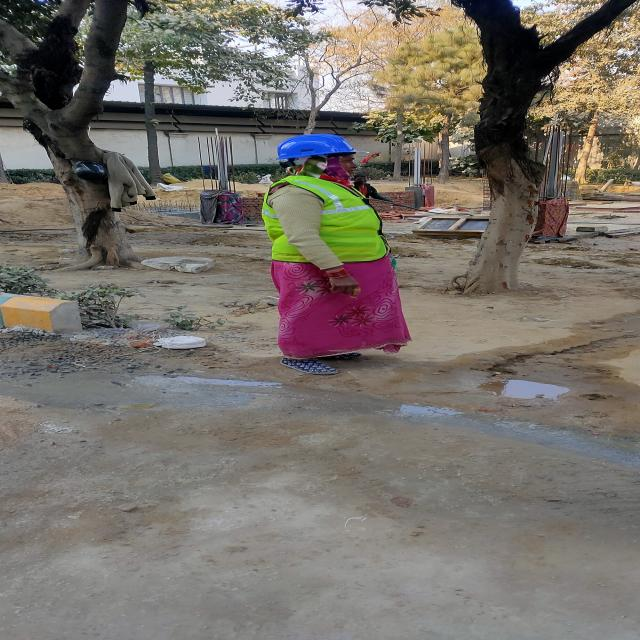safe: (262, 134, 409, 375)
